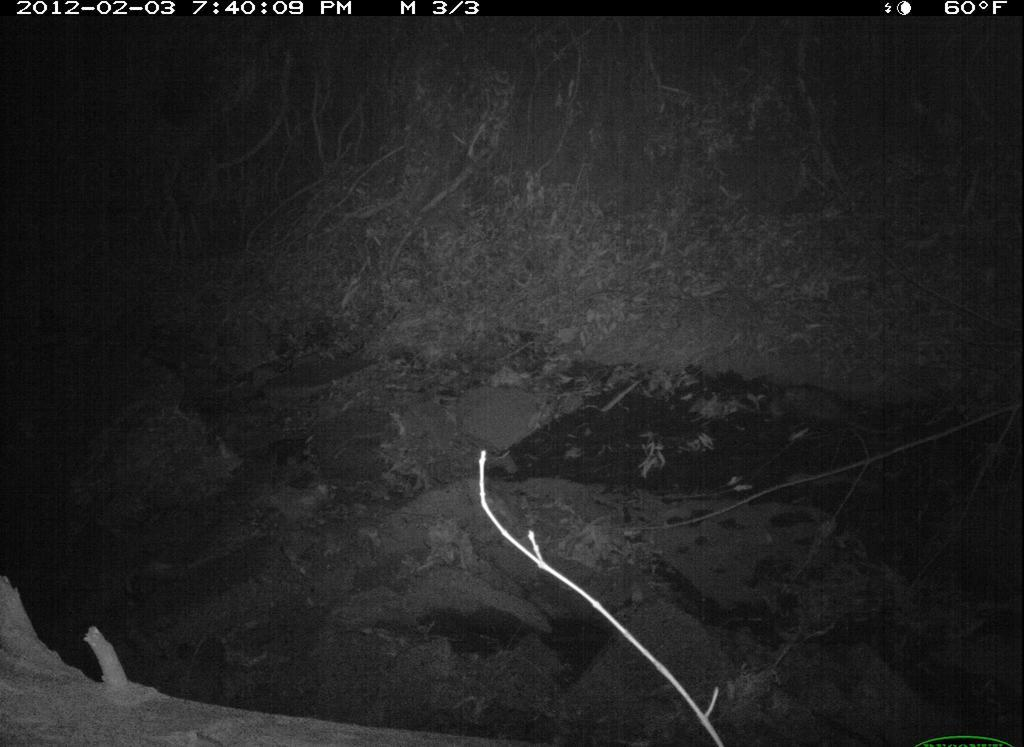opossum: (242, 408, 346, 496)
